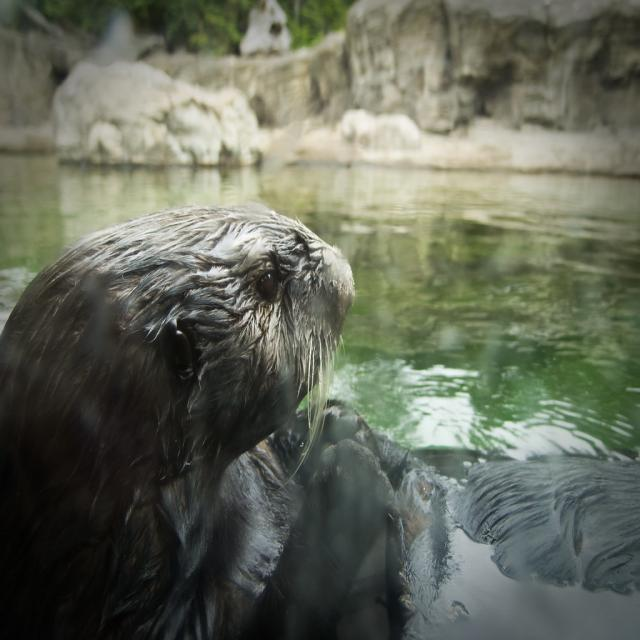otter: (1, 204, 359, 524)
